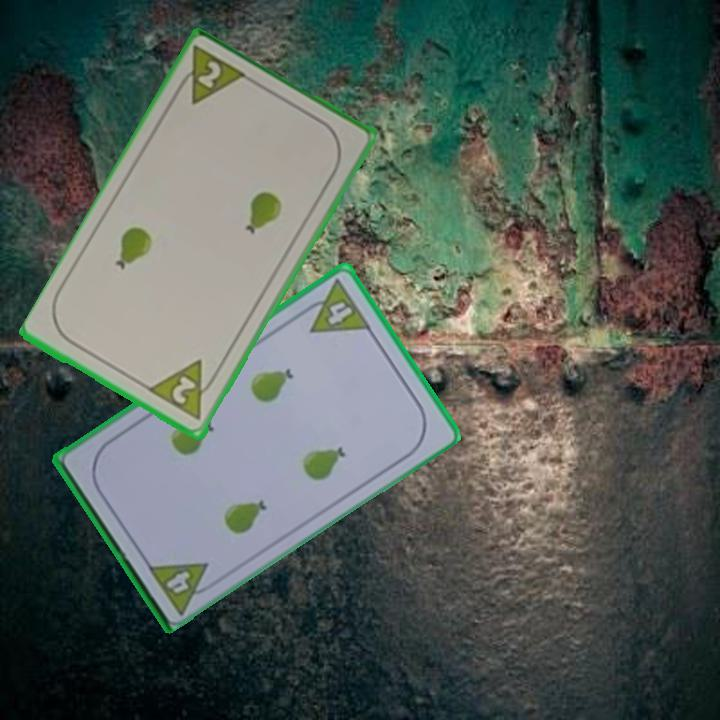2p: (170, 43, 251, 109), (147, 356, 223, 424)
4p: (295, 275, 374, 336), (144, 558, 221, 616)
